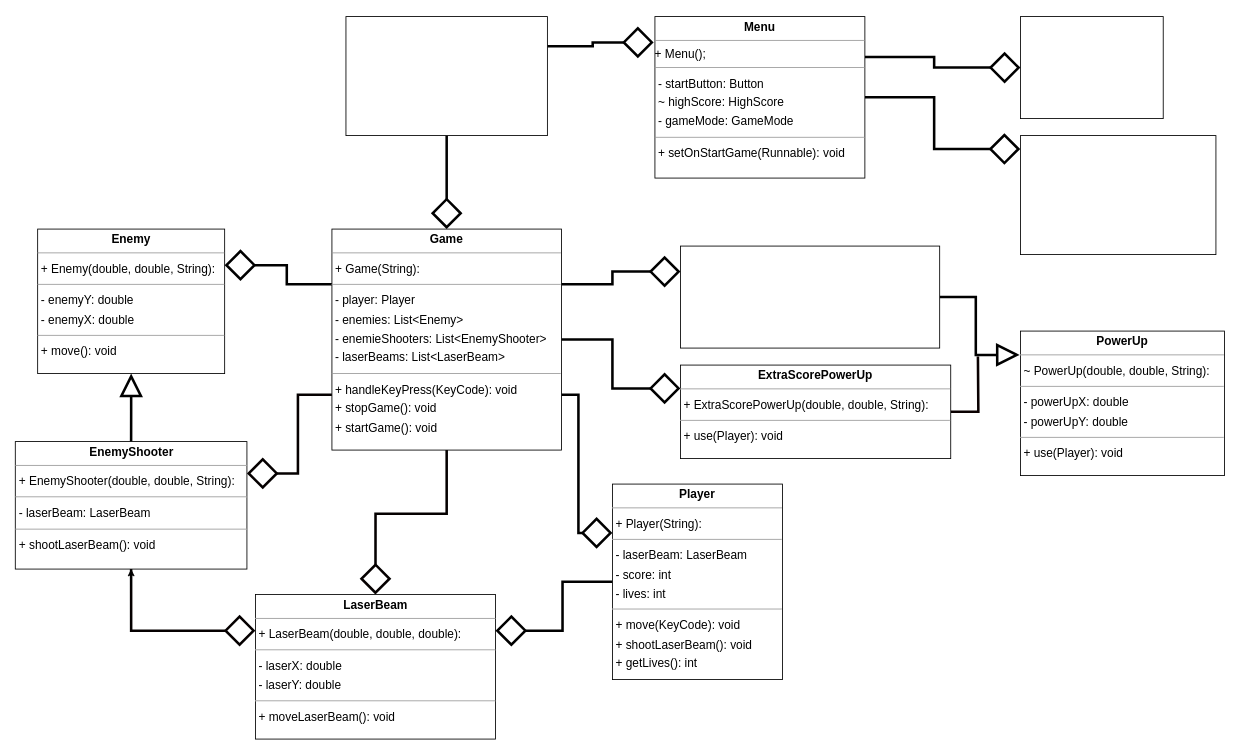
This 1239x754 diagram has some shape labels left out. The centre of each missing label's shape, as x and y in pixels:
ExtraLifePowerUp + ExtraLifePowerUp(double, double, String): + use(Player): void: point (810, 296)
GameMode + GameMode(String): - currentGameMode. String + switchGameMode(): void: point (1118, 195)
HighScore + HighScore(): + saveScore(int): void + getHighScore(): int: point (1091, 67)
Main + Main(); - game: Game - createGameScene(String): void: point (446, 76)
